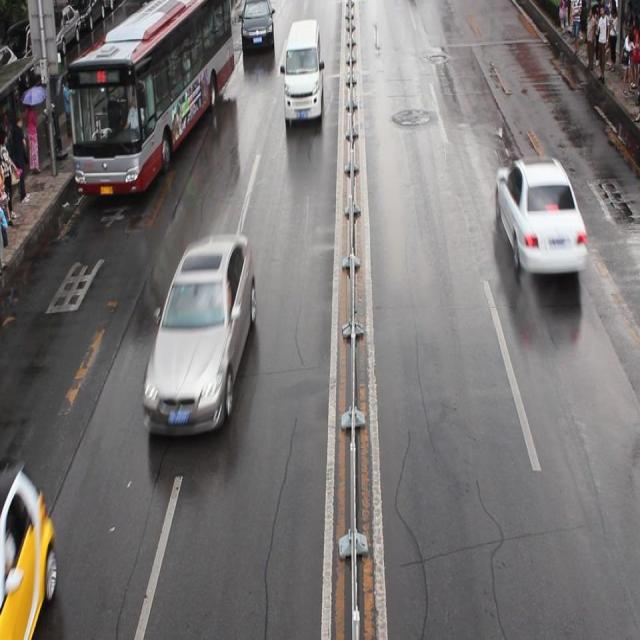car: (143, 235, 254, 429), (495, 157, 584, 274), (1, 457, 56, 640), (241, 1, 274, 52)
truck: (284, 20, 322, 122)
van: (67, 1, 233, 199)
